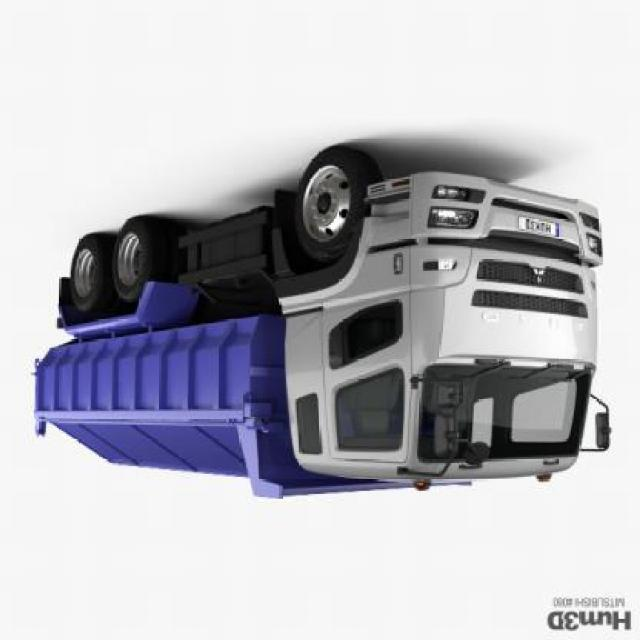truck: (38, 142, 610, 502)
